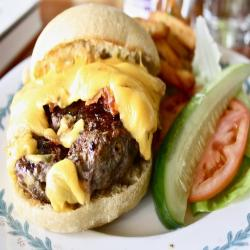burger: (1, 5, 163, 230)
salad: (194, 155, 250, 213)
